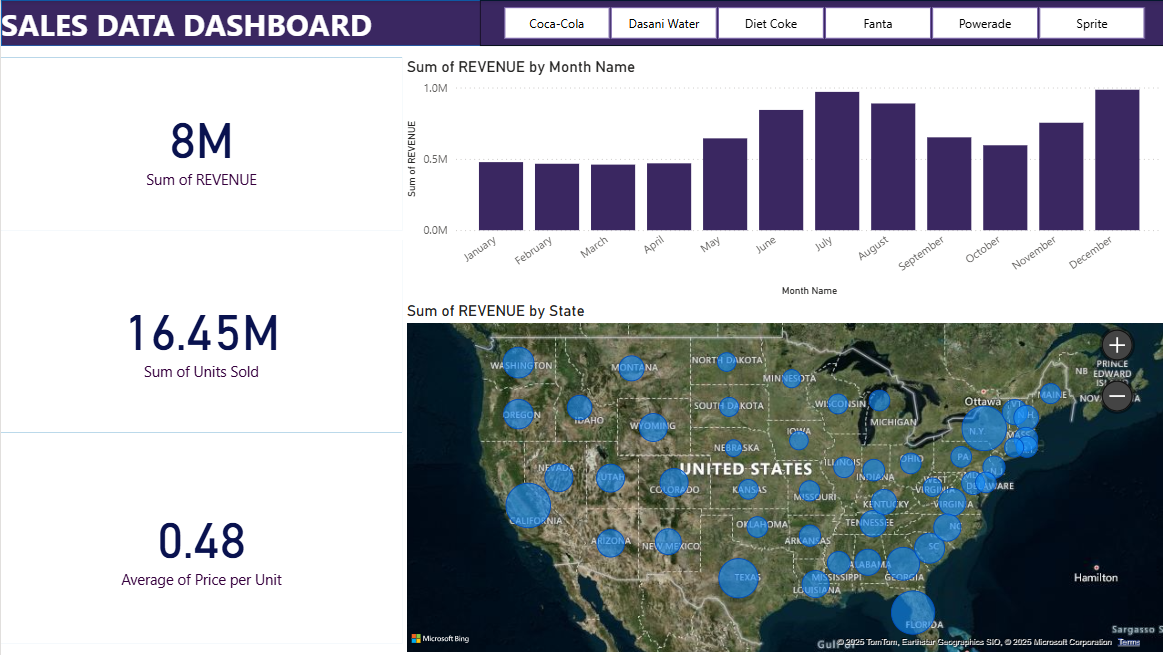

What the dashboard file says about the page in this screenshot:
{"tool":"powerbi","page":{"name":"Page 1","canvas":[1280,720],"ordinal":0},"visuals":[{"type":"shape","box":[0,63.1,440.5,190.7],"z":0},{"type":"shape","box":[0,263.5,440.5,211.3],"z":1000},{"type":"shape","box":[0,488.5,440.5,218.2],"z":2000},{"type":"card","fields":{"Values":["Sum(Data.REVENUE)"]},"box":[0,63.1,440.5,190.7],"z":3000},{"type":"card","fields":{"Values":["Sum(Data.Units Sold)"]},"box":[0,263.5,440.5,211.3],"z":4000},{"type":"card","fields":{"Values":["Avg(Data.Price per Unit)"]},"box":[0,488.5,440.5,218.2],"z":5000},{"type":"shape","box":[0,0,1280.3,50.8],"z":6000},{"type":"columnChart","fields":{"Y":["Sum(Data.REVENUE)"],"Category":["Data.Month Name"]},"box":[440.5,63.1,839.8,267.6],"z":7000},{"type":"map","fields":{"Size":["Sum(Data.REVENUE)"],"Category":["Data.State"]},"box":[440.5,330.7,839.8,389.7],"z":8000},{"type":"slicer","fields":{"Values":["Data.Beverage Brand"]},"box":[525.6,0,754.7,50.8],"z":9000}]}

Visuals, with their boxes in screenshot pixels (x1, y1, x2, y2), scaled from the page's 1280x720 canvas onto the 1163x655 screenshot:
shape: box=[0, 57, 400, 231]
shape: box=[0, 240, 400, 432]
shape: box=[0, 444, 400, 643]
card - Sum(Data.REVENUE): box=[0, 57, 400, 231]
card - Sum(Data.Units Sold): box=[0, 240, 400, 432]
card - Avg(Data.Price per Unit): box=[0, 444, 400, 643]
shape: box=[0, 0, 1162, 46]
columnChart - Sum(Data.REVENUE) x Data.Month Name: box=[400, 57, 1162, 301]
map - Sum(Data.REVENUE) x Data.State: box=[400, 301, 1162, 654]
slicer - Data.Beverage Brand: box=[478, 0, 1162, 46]
